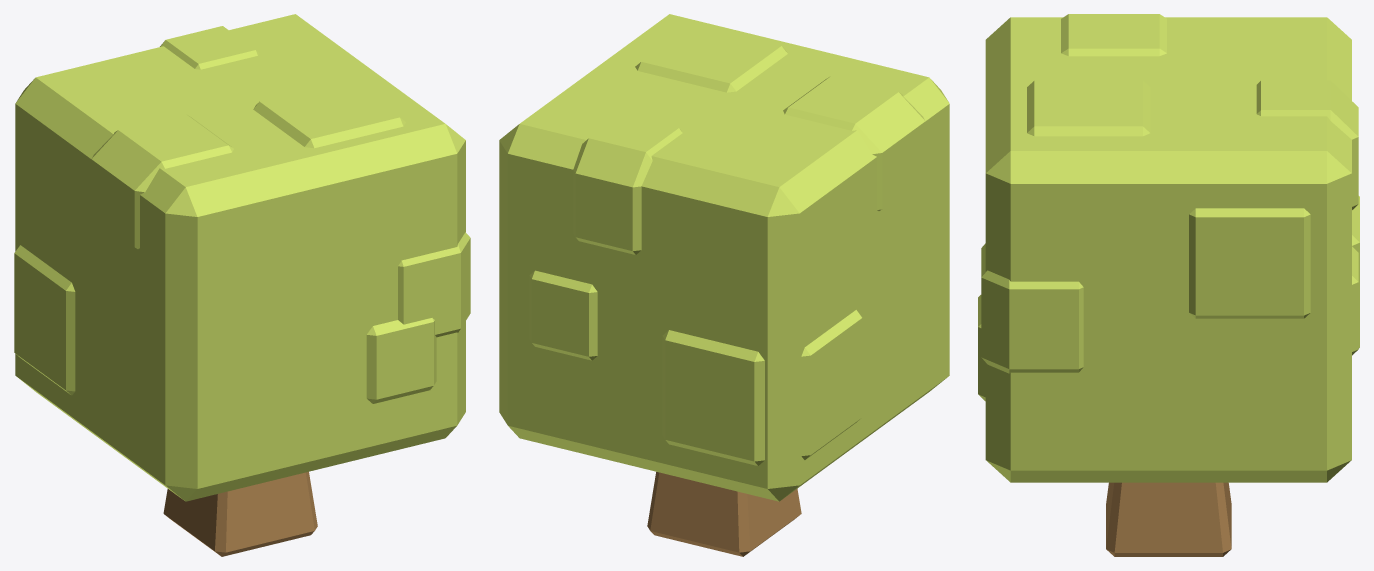
The model's file is grand_arbre_01.glb.
3 views of the same model, side by side, from view 1: azimuth 30°, elevation 25°; view 2: azimuth 150°, elevation 25°; view 3: azimuth 270°, elevation 25° (orthographic). The views are drawn at different scales.
Visible parts, largest first — view 1: Cube.001, Cube.004, Tronc, Cube.006, Cube.009, Cube.002, Cube.005, Cube.008; view 2: Cube.001, Cube.006, Cube.008, Cube.004, Tronc, Cube.009, Cube.007; view 3: Cube.001, Cube.003, Cube.002, Tronc, Cube.009, Cube.004, Cube.008, Cube.007, Cube.005, Cube.006.
Boxes of the visible parts, x1,y1,x2,y2 form: Cube.001: (15,14,465,501); Cube.004: (91,113,233,248); Tronc: (163,471,317,556); Cube.006: (14,245,75,395); Cube.009: (253,80,405,148); Cube.002: (398,232,470,337); Cube.005: (366,318,436,403); Cube.008: (160,26,259,69); Cube.001: (499,14,949,501); Cube.006: (662,310,862,465); Cube.008: (573,114,682,254); Cube.004: (783,75,925,210); Tronc: (647,472,801,556); Cube.009: (635,24,787,92); Cube.007: (529,270,597,360); Cube.001: (985,17,1351,482); Cube.003: (1189,208,1310,318); Cube.002: (981,243,1083,373); Tronc: (1106,482,1231,556); Cube.009: (1027,80,1150,136); Cube.004: (1061,14,1166,56); Cube.008: (1256,80,1358,209); Cube.007: (1352,246,1358,355); Cube.005: (978,295,985,401); Cube.006: (1352,196,1359,348).
Size of the model in its own units: 6.06 by 8.04 by 6.09.
